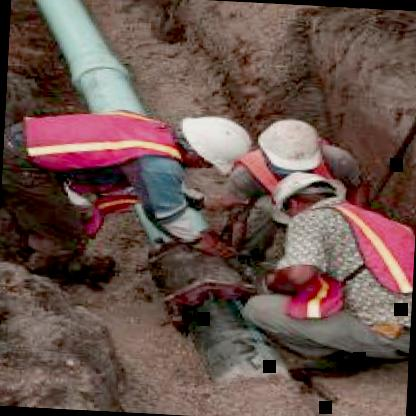helmet: (166, 110, 255, 176), (260, 169, 348, 229), (256, 120, 326, 178)
